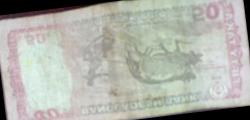50 taka: (2, 9, 250, 118)
